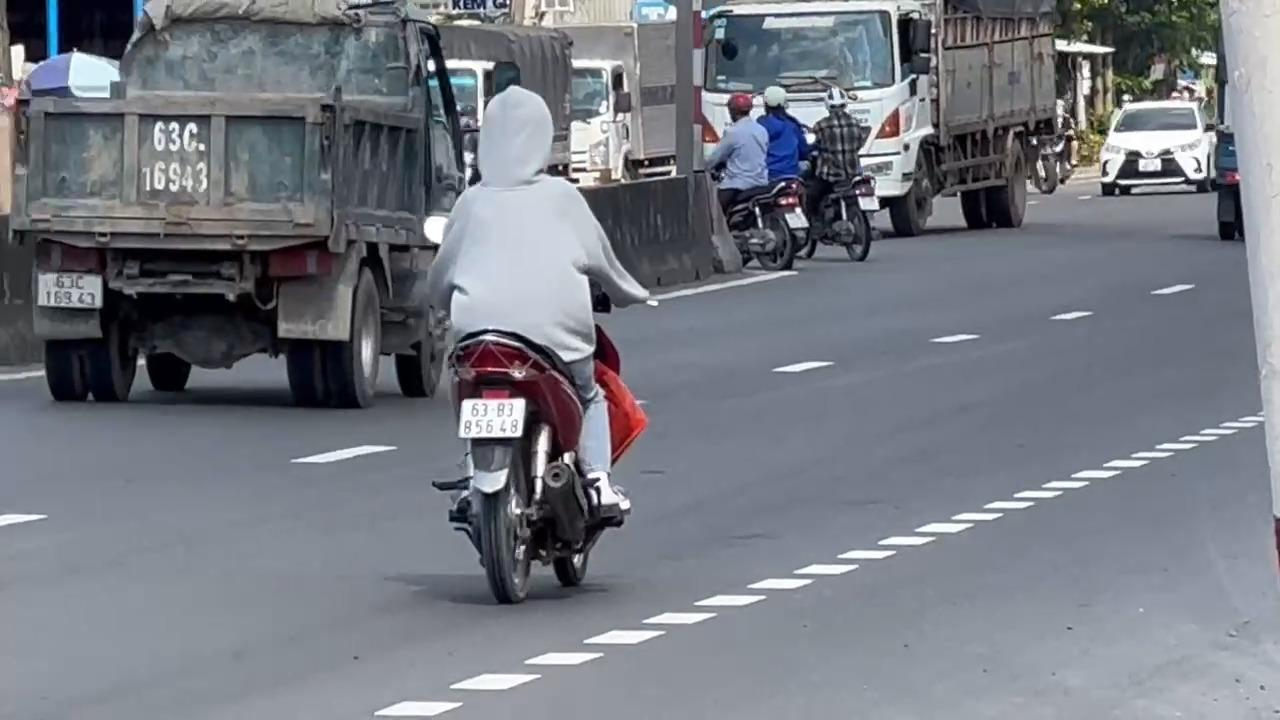bien_so: (457, 396, 526, 439), (36, 270, 104, 309)
